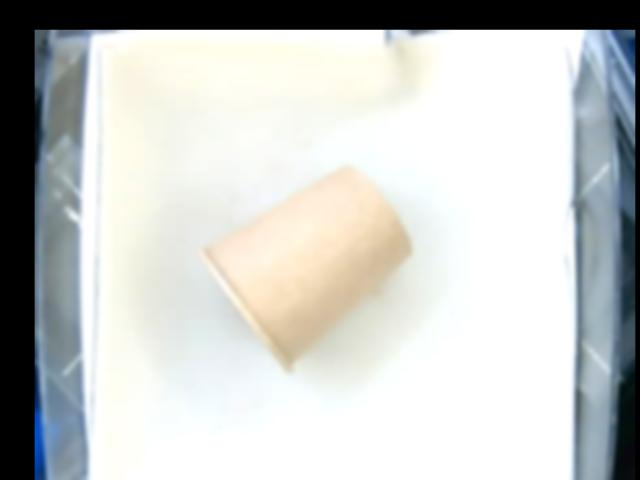Cup: (199, 163, 415, 374)
